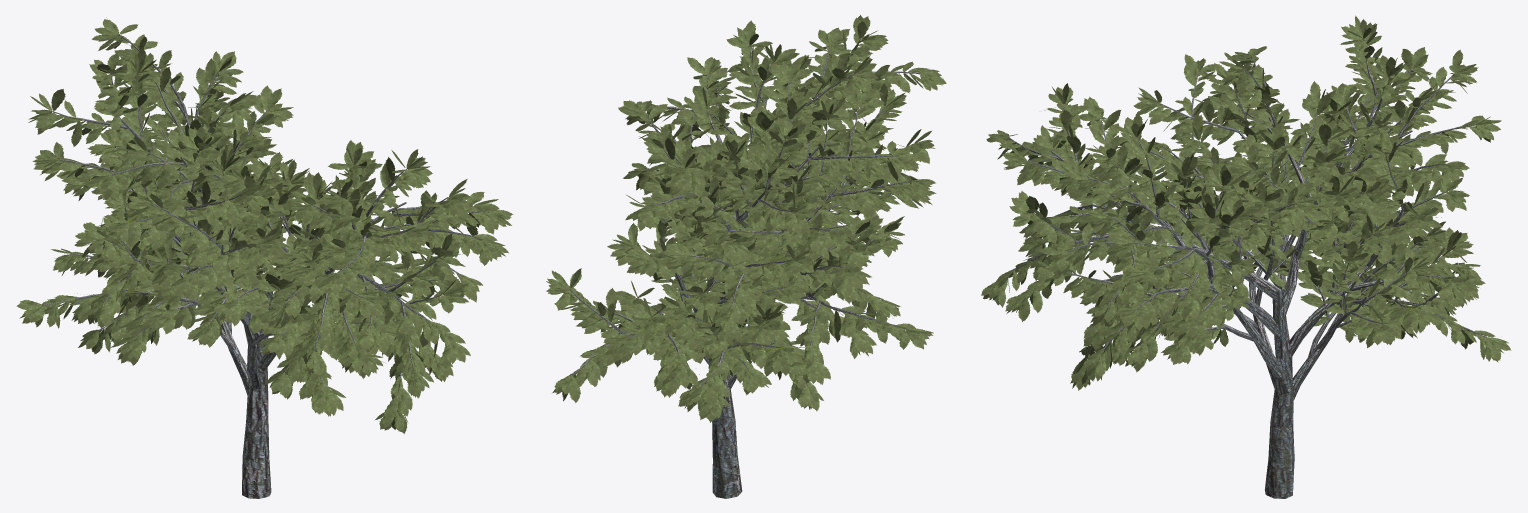
The model's file is castagno_b.gltf.
3 renders of one model, left to right at view 1: azimuth 30°, elevation 25°; view 2: azimuth 150°, elevation 25°; view 3: azimuth 270°, elevation 25°, orthographic. The views are drawn at different scales.
Parts seen in each view (by area): view 1: castagno_b_foglie, castagno_b_rami; view 2: castagno_b_foglie, castagno_b_rami; view 3: castagno_b_foglie, castagno_b_rami.
Boxes of the visible parts, x1,y1,x2,y2 form: castagno_b_foglie: (16,17,513,433); castagno_b_rami: (42,34,488,498); castagno_b_foglie: (546,15,946,422); castagno_b_rami: (569,39,920,498); castagno_b_foglie: (981,15,1511,390); castagno_b_rami: (1007,39,1486,498).
Size of the model in its own units: 5.62 by 5.76 by 6.58.
Materials: 2 (2 with a texture image).
